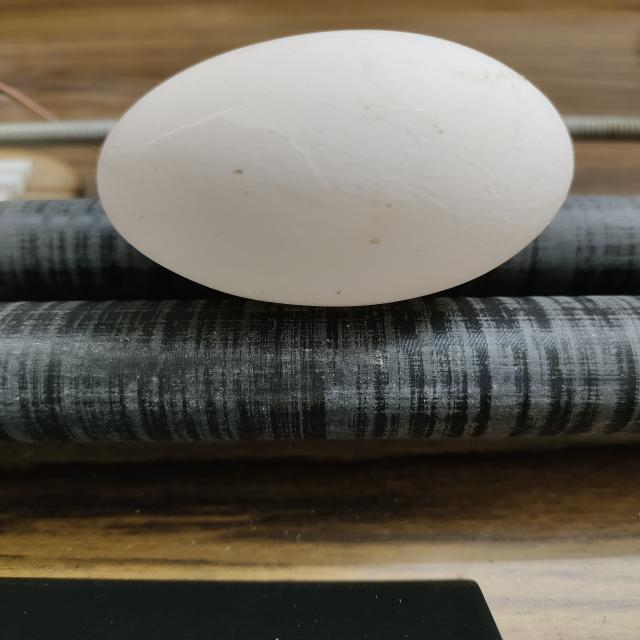Eggs: (98, 30, 575, 306)
